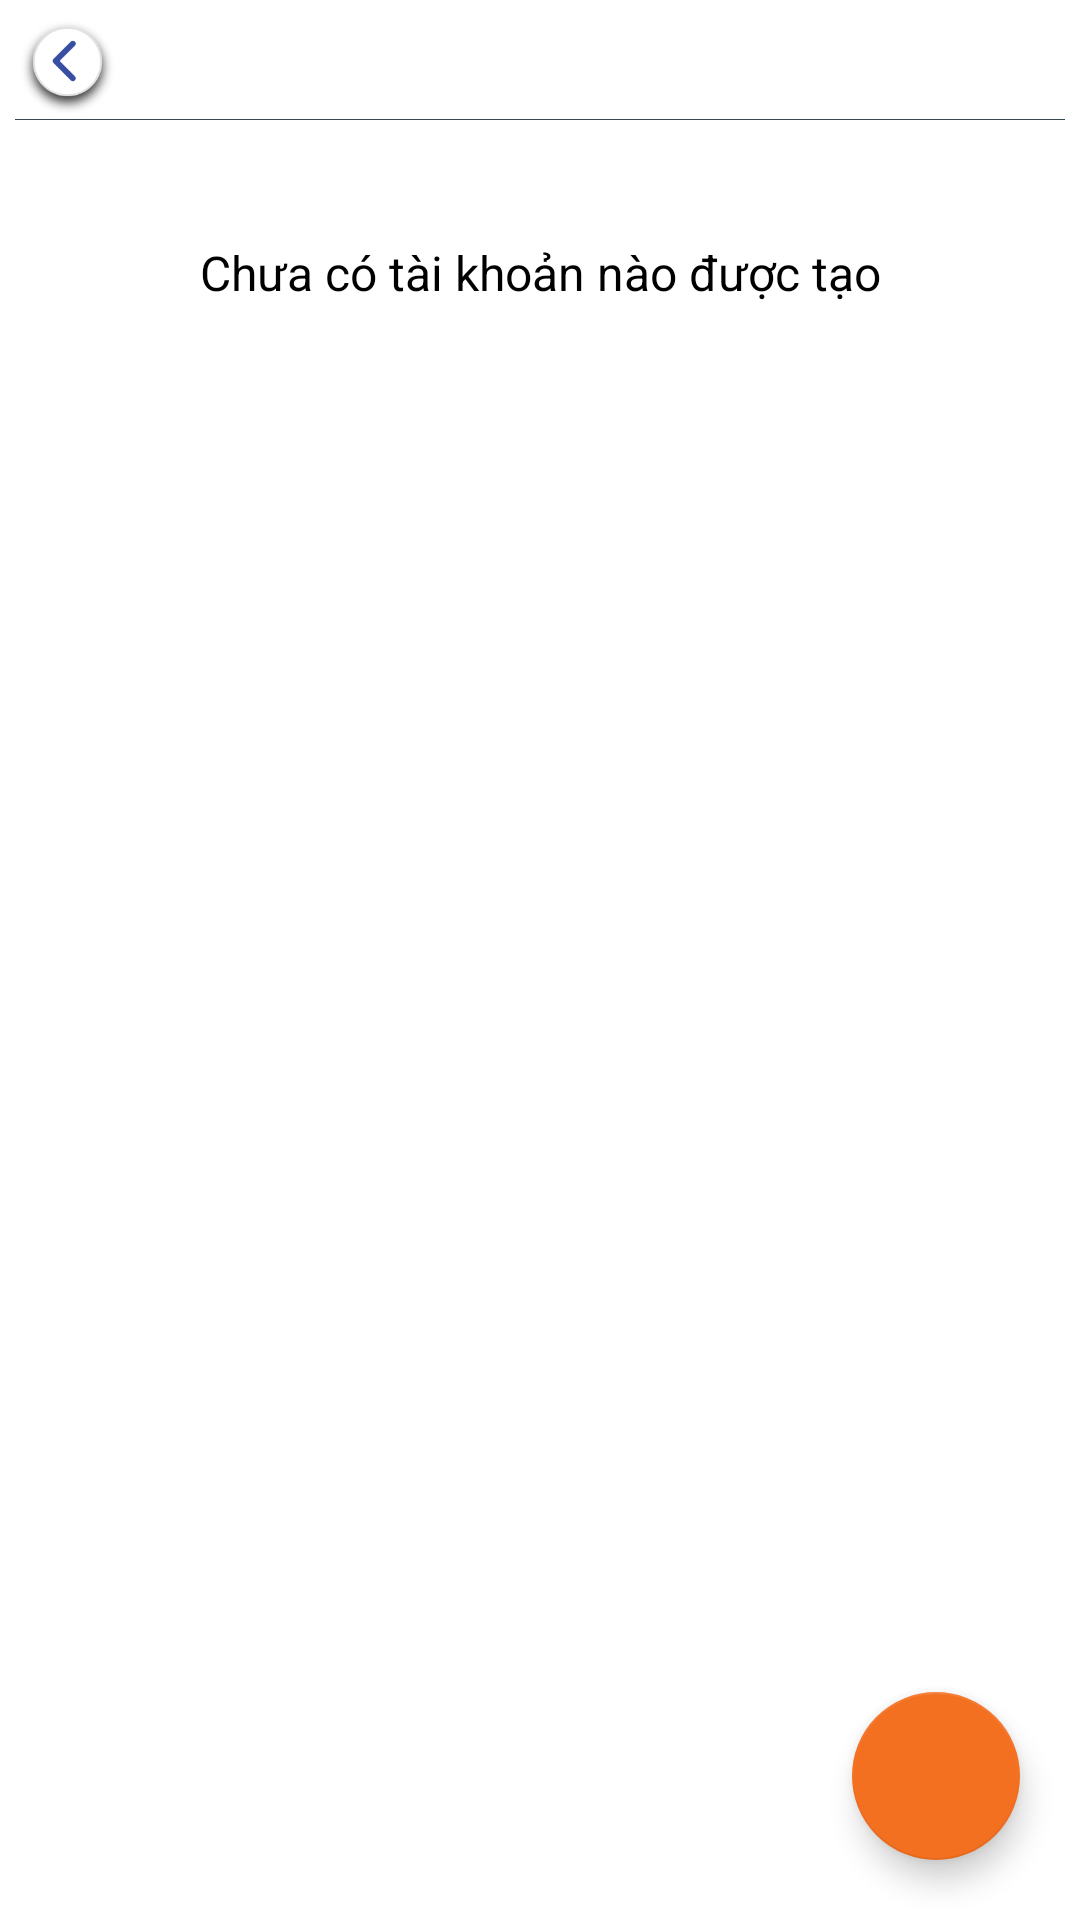

Icon click points for this 1080x1920 phone screenshot, format (x=x, y=y):
back circle: (x=67, y=67)
